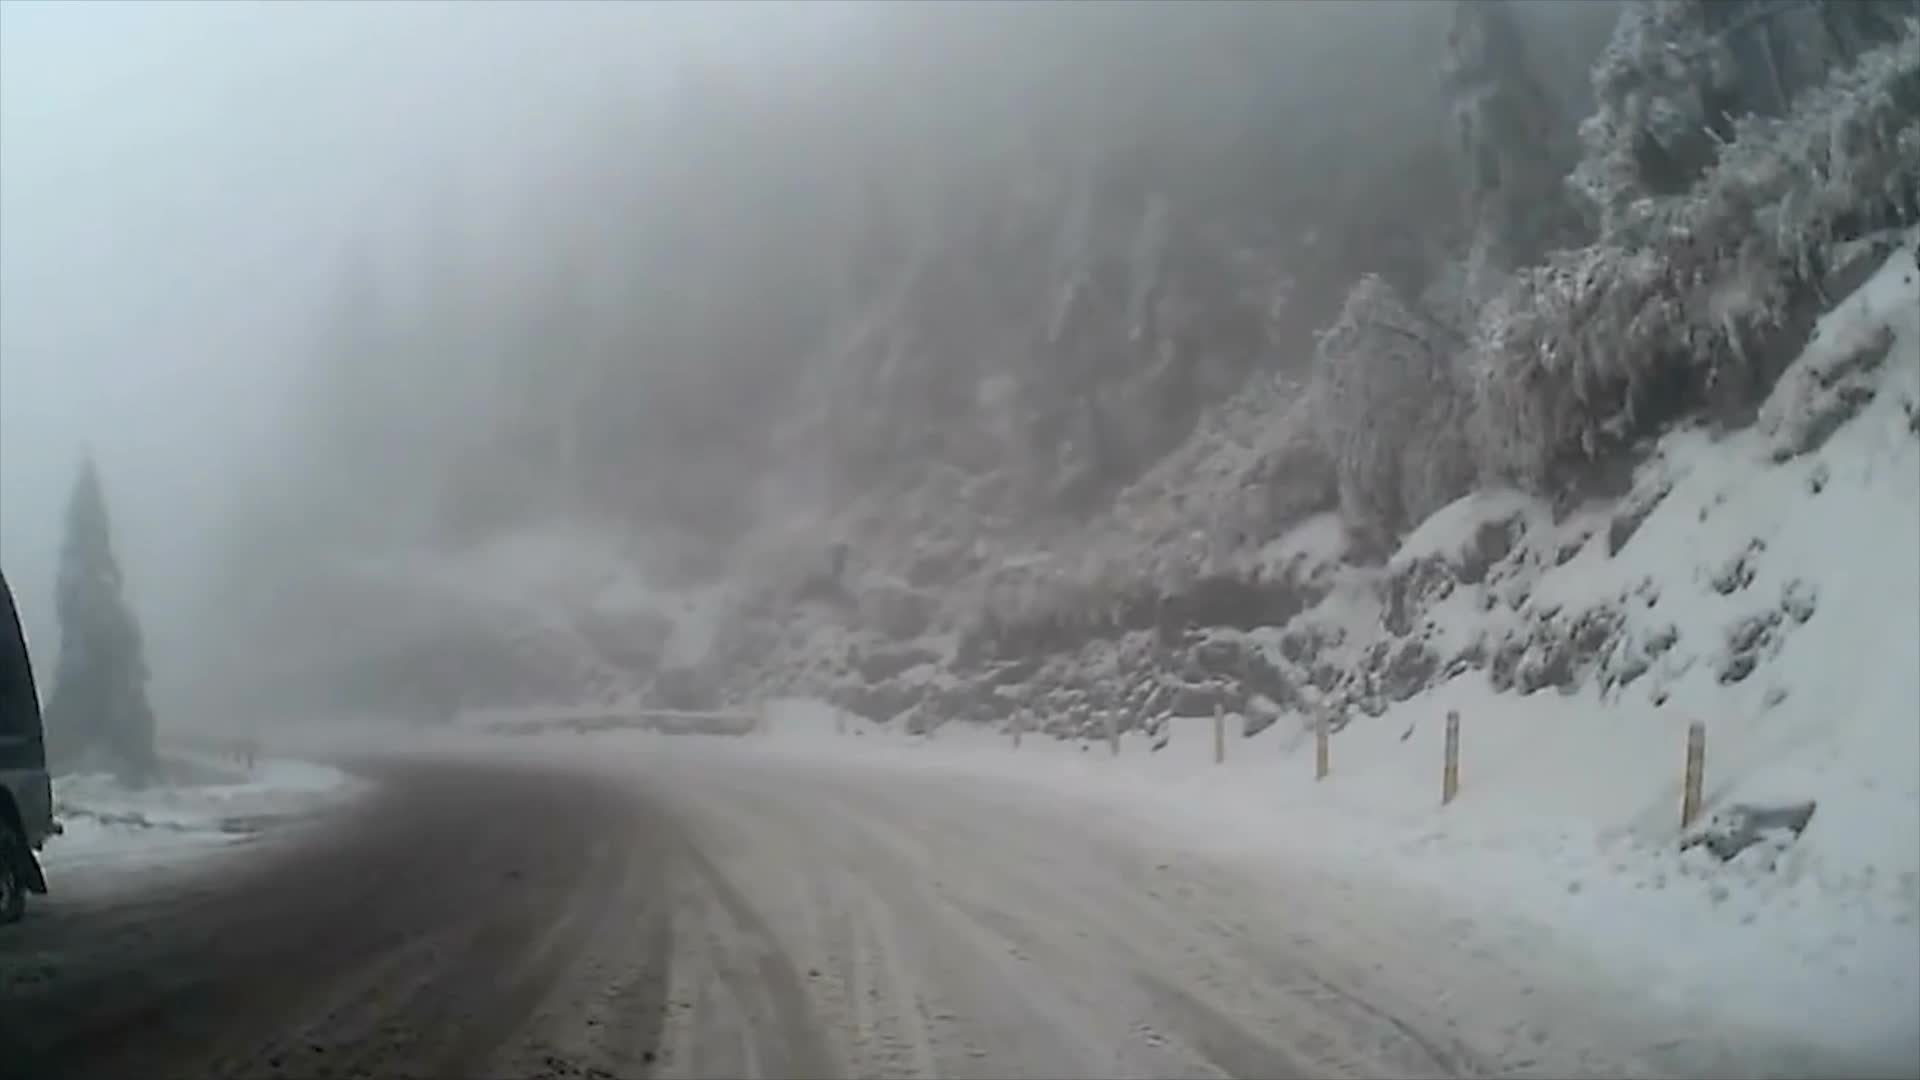vehicle: (0, 571, 65, 943)
